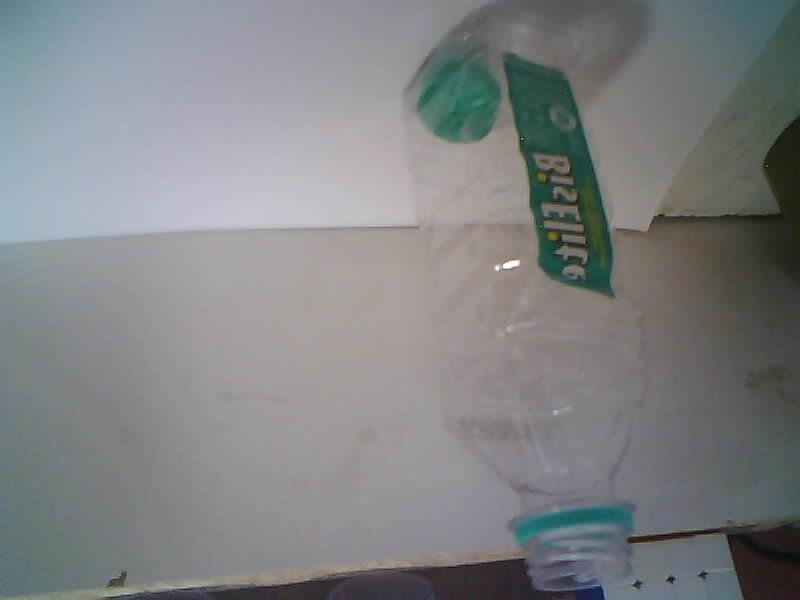non-biodegradable: (406, 3, 642, 589)
